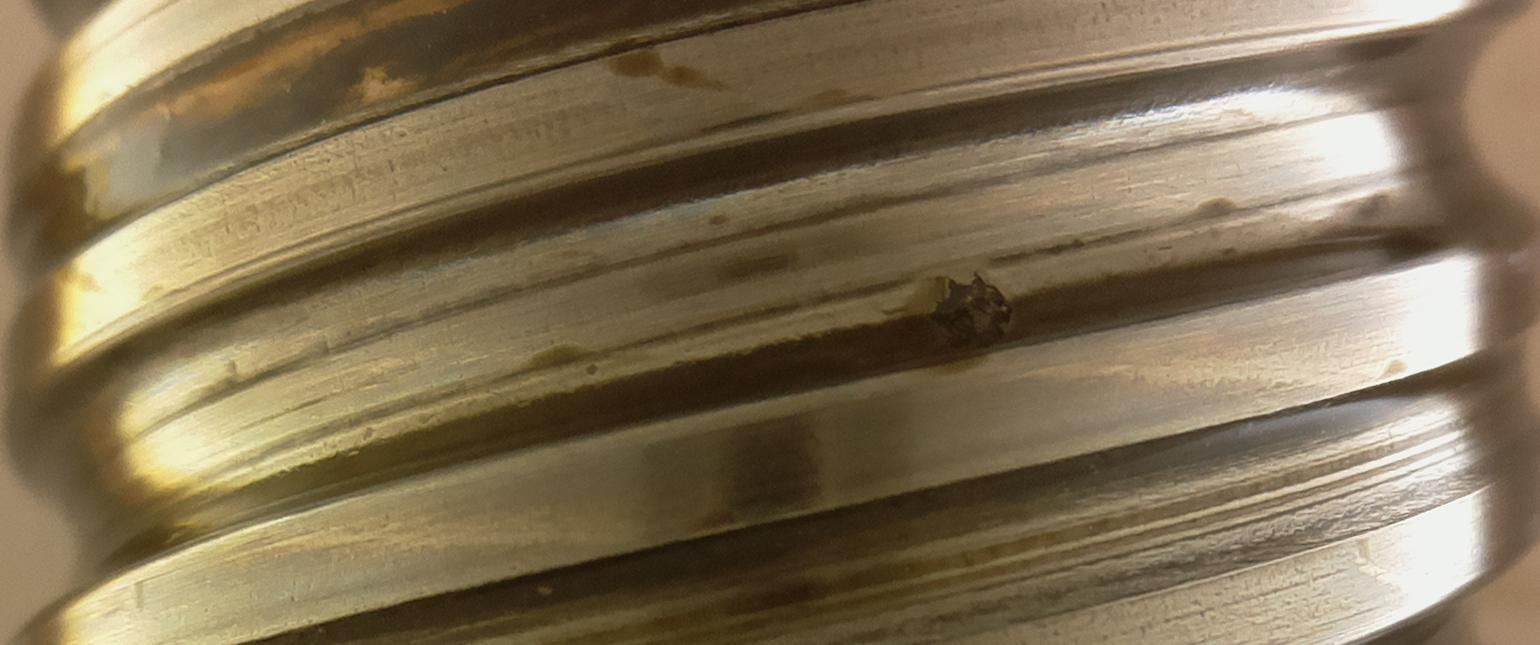pitting: (929, 271, 1017, 353)
